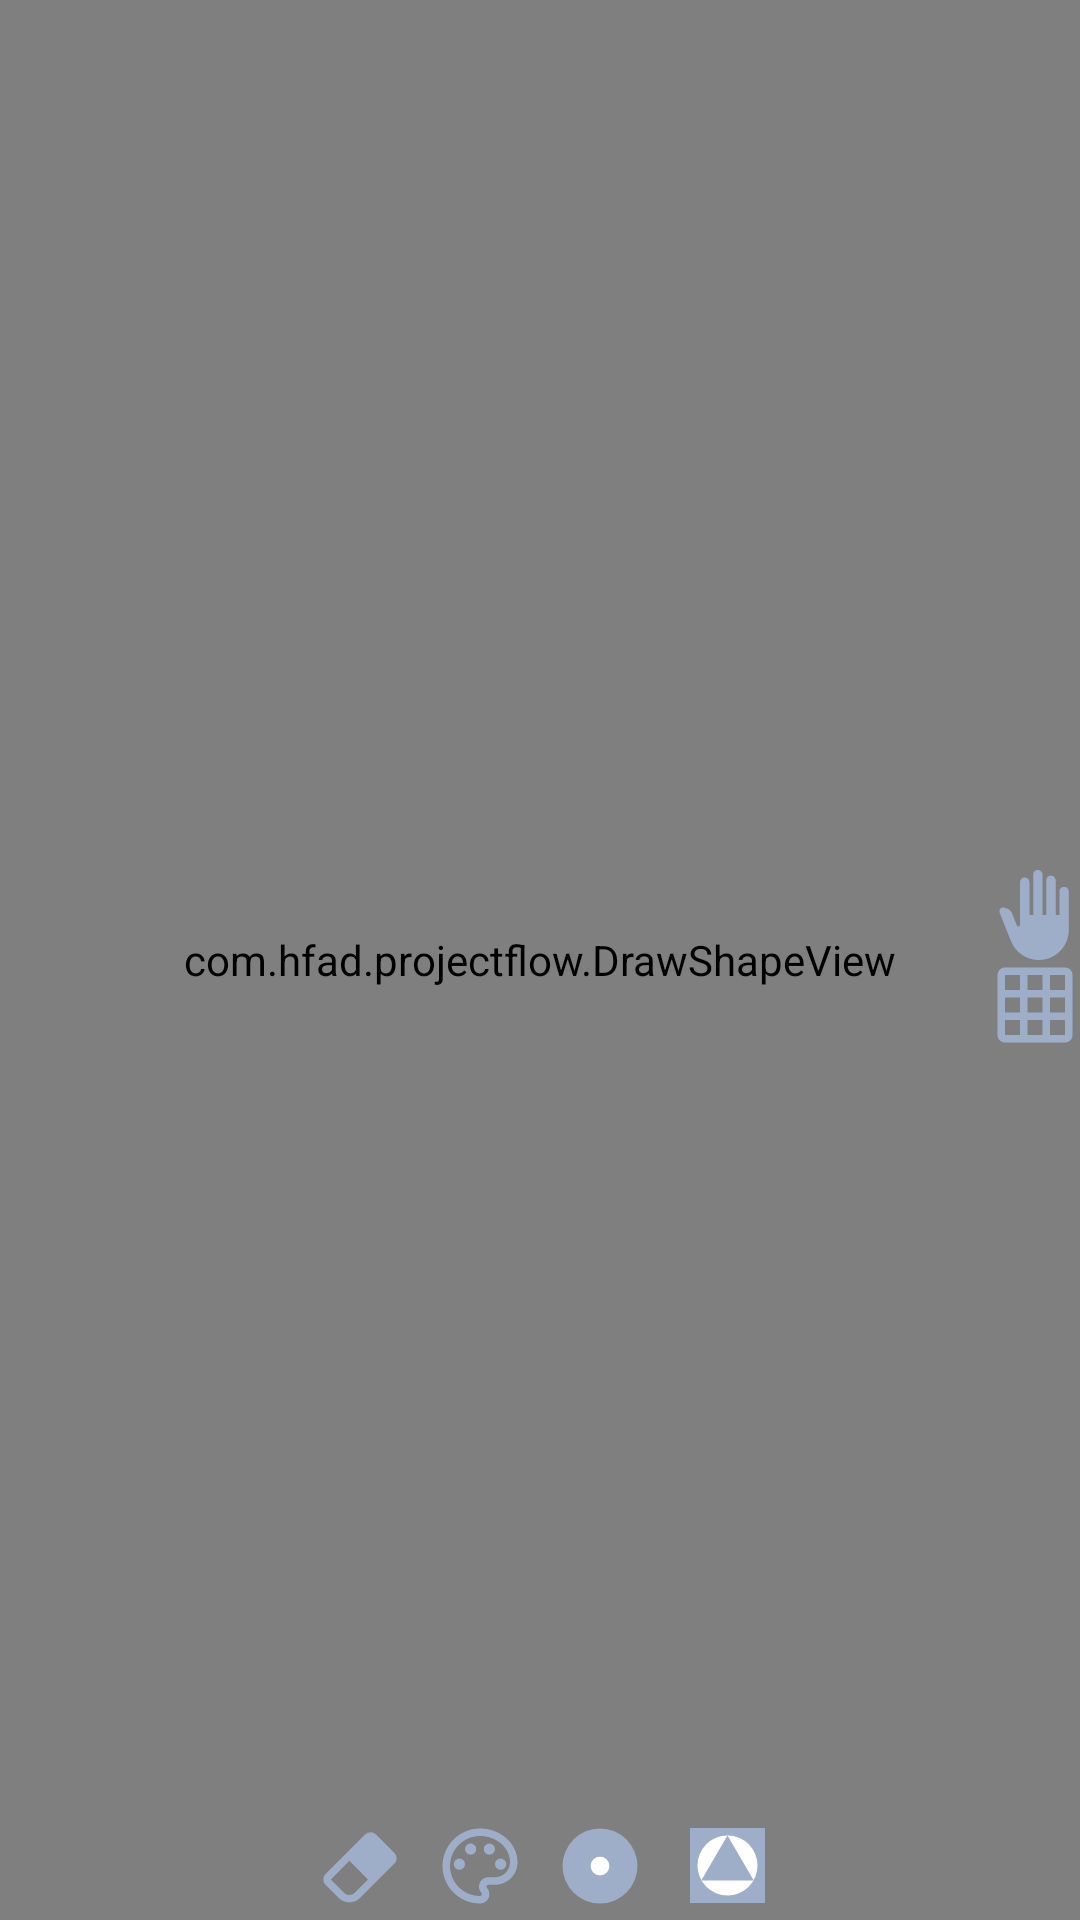

Locate icon controls on the screen. Image size 1080*1920, boxes as bbox=[x1, y1, x2, y2].
eraser: bbox=[323, 1832, 397, 1903]
shapes: bbox=[690, 1828, 765, 1903]
